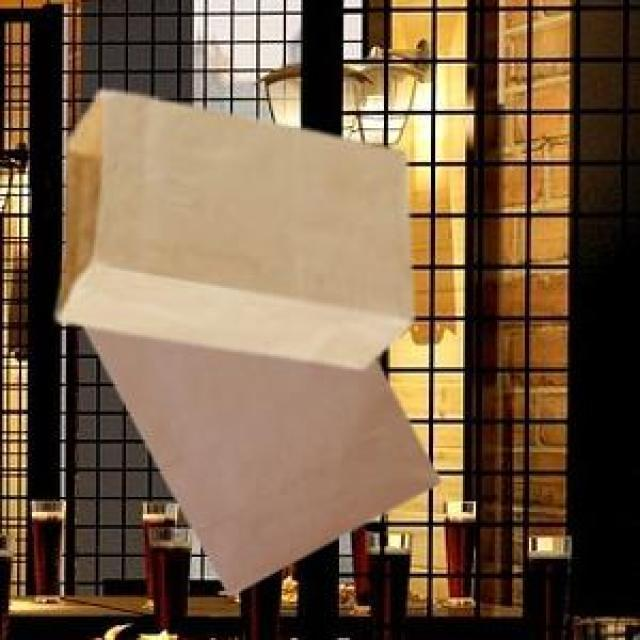paper: (51, 88, 410, 365), (82, 322, 435, 591)
